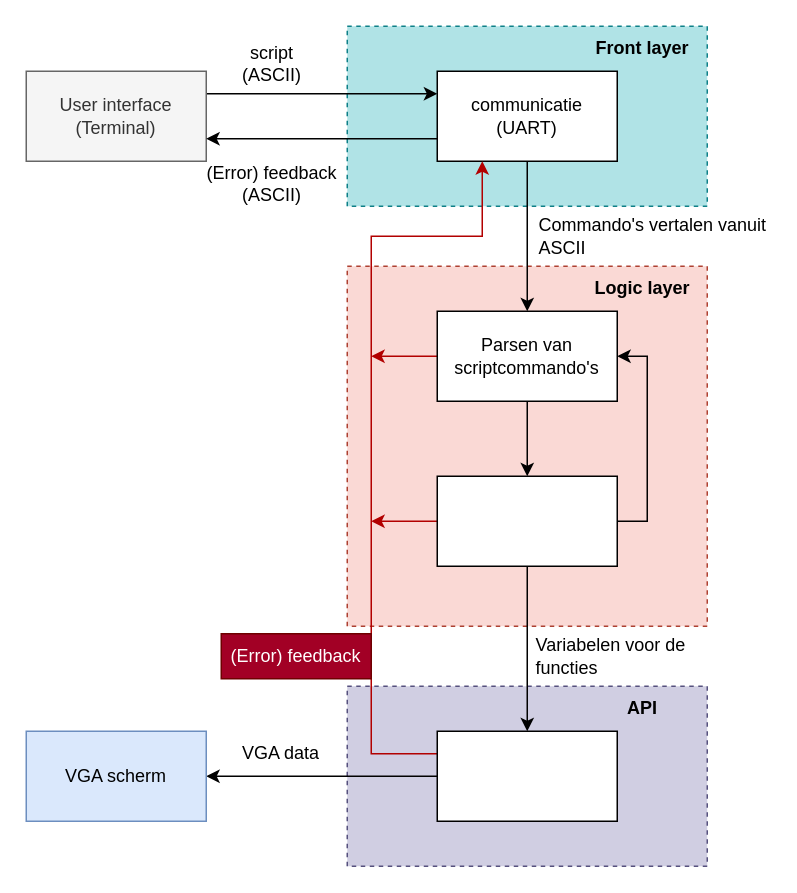
This 797x893 diagram has some shape labels left out. The shapes that lost their labels are listed below. From the top down, each one's centre as x and y in pixels, then its label:
the point at 526,520: Vertaling naar bruikbare data voor het programma (per script lijn)
the point at 526,775: Functies voor tekenen op VGA scherm(API functies)
